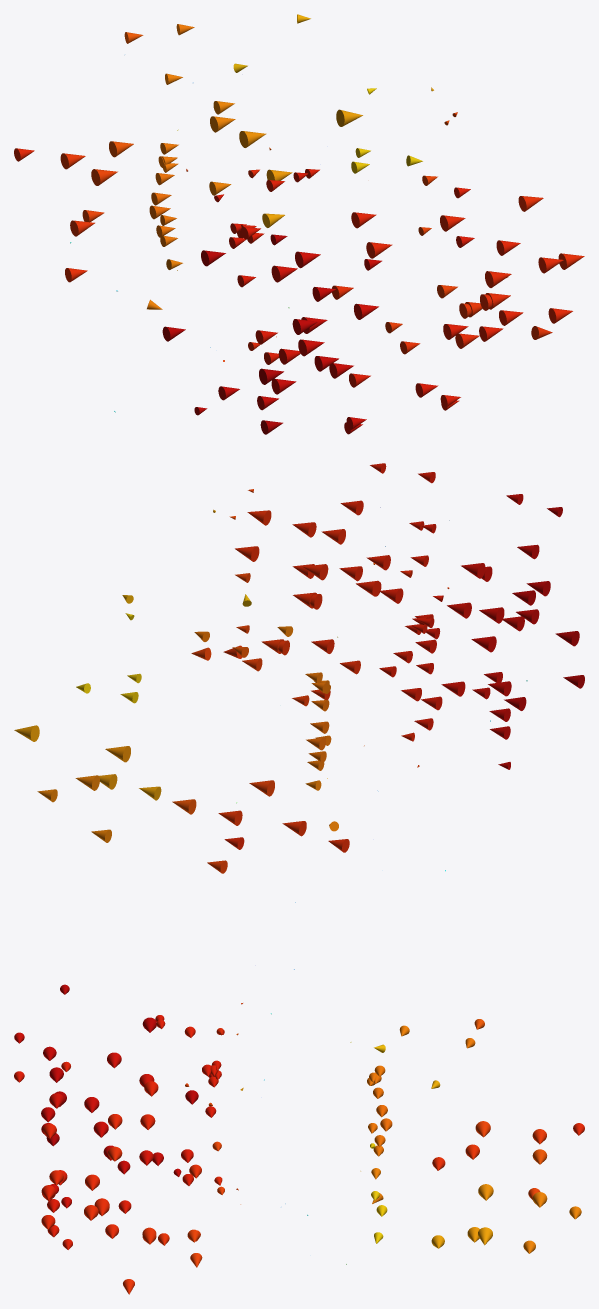
Rendered from LineasCorrienteH2-O2_mh2-2.70_V-1.glb.
3 views of the same model, one above another, from view 1: azimuth 30°, elevation 25°; view 2: azimuth 150°, elevation 25°; view 3: azimuth 270°, elevation 25° (orthographic). The views are drawn at different scales.
Size of the model in its own units: 0.000903 by 0.000781 by 0.00123.
Materials: 2 (2 with a texture image).
